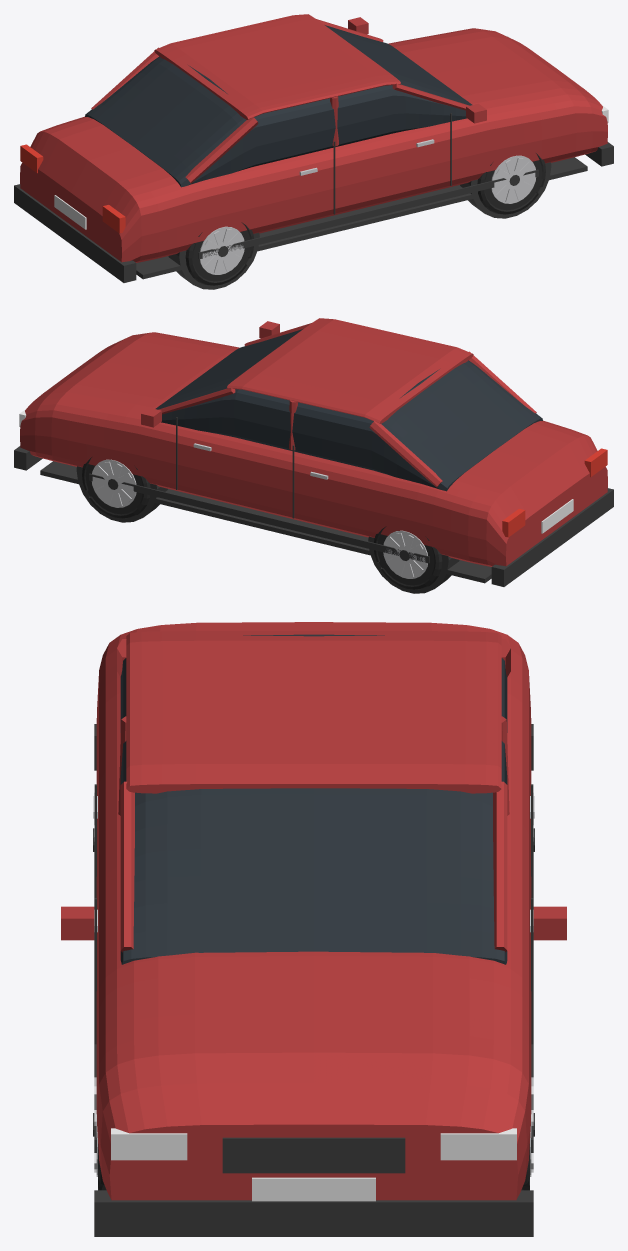
The model's file is SM_Car_Sedan.fbx.
3 views of the same model, one above another, from view 1: azimuth 30°, elevation 25°; view 2: azimuth 150°, elevation 25°; view 3: azimuth 270°, elevation 25° (orthographic). The views are drawn at different scales.
Parts seen in each view (by area): view 1: SM_Car_Sedan; view 2: SM_Car_Sedan; view 3: SM_Car_Sedan.
Part boxes in pixels (x1=…): SM_Car_Sedan: x1=14, y1=14, x2=613, y2=289; SM_Car_Sedan: x1=14, y1=318, x2=613, y2=593; SM_Car_Sedan: x1=61, y1=622, x2=566, y2=1236.
Size of the model in its own units: 2.12 by 4.74 by 1.51.
